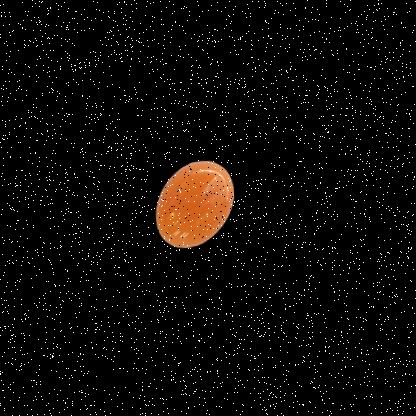welood: (119, 117, 269, 281)
